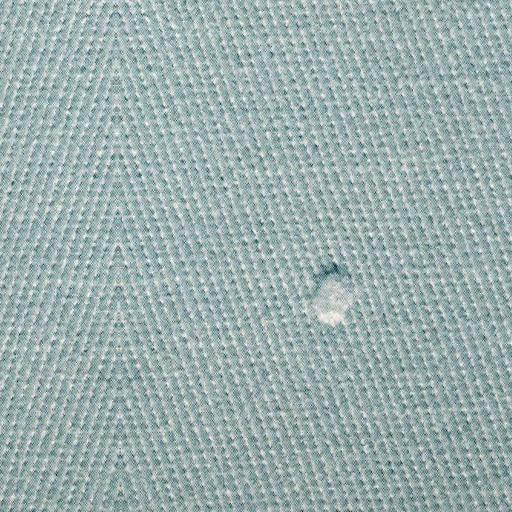knot: (302, 256, 372, 335)
